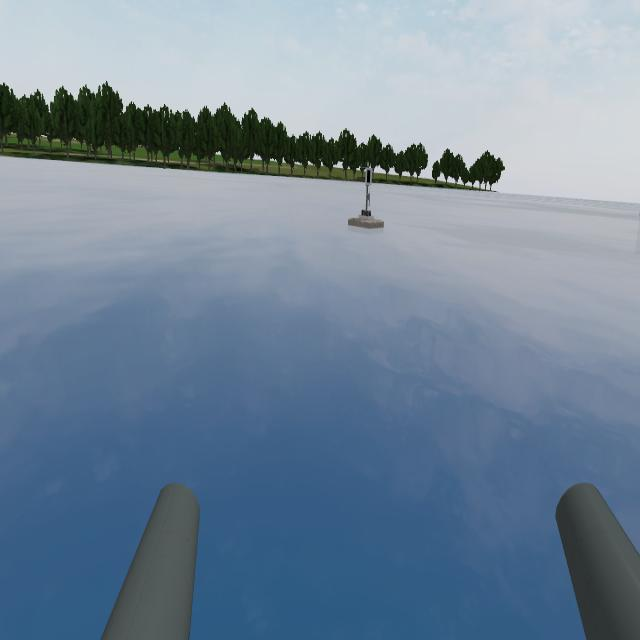black_pole: (365, 167, 371, 184)
